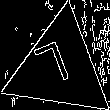L_S: (37, 39, 82, 97)
